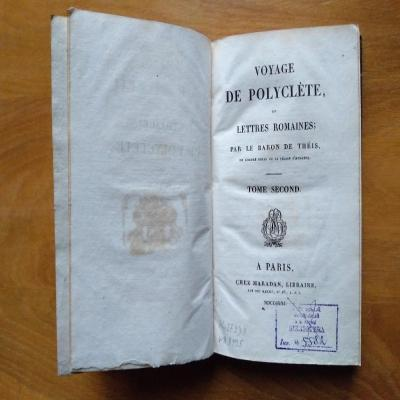rare_books: (50, 9, 362, 373)
